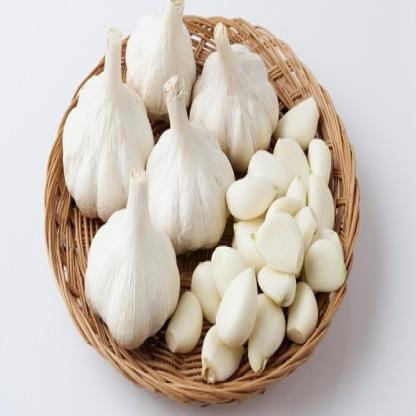garlic: (91, 183, 168, 344), (68, 76, 140, 210), (191, 35, 276, 141), (152, 128, 223, 246), (133, 14, 191, 114), (248, 206, 304, 276), (220, 262, 265, 332), (274, 290, 328, 348), (306, 238, 354, 300), (302, 169, 338, 248), (252, 296, 286, 376), (164, 288, 203, 356), (226, 167, 274, 212), (282, 94, 316, 140)
